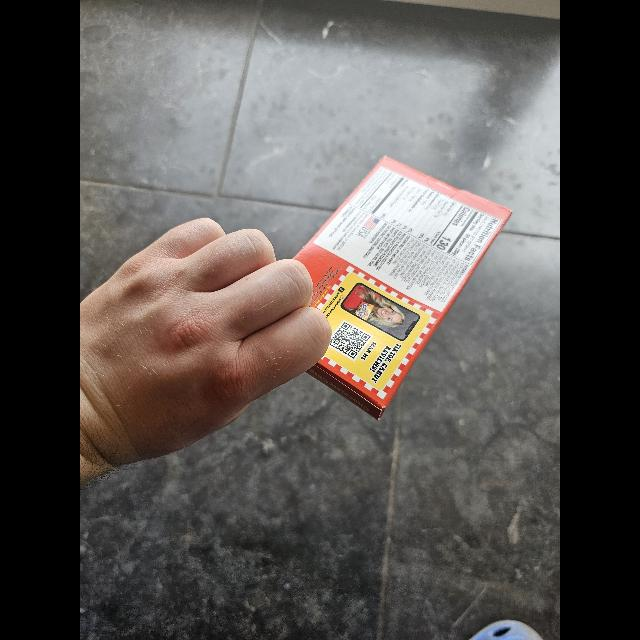Cardboard: (270, 157, 516, 419)
